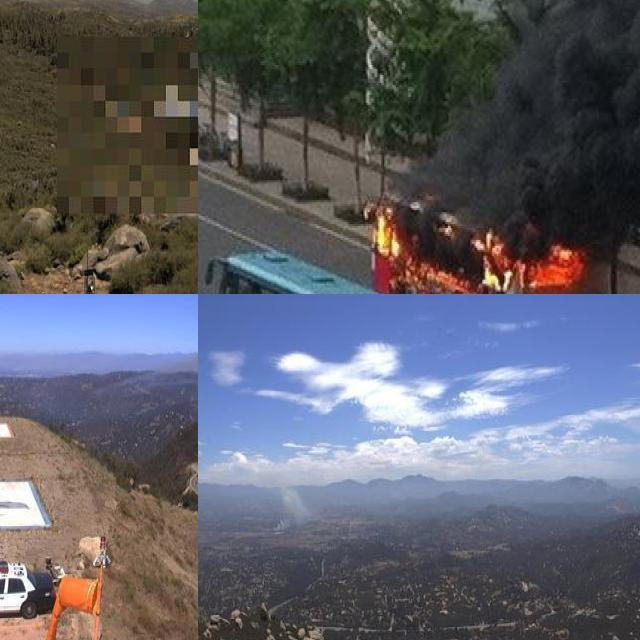fire: (366, 188, 584, 294)
smoke: (428, 0, 640, 206), (268, 470, 319, 535)
